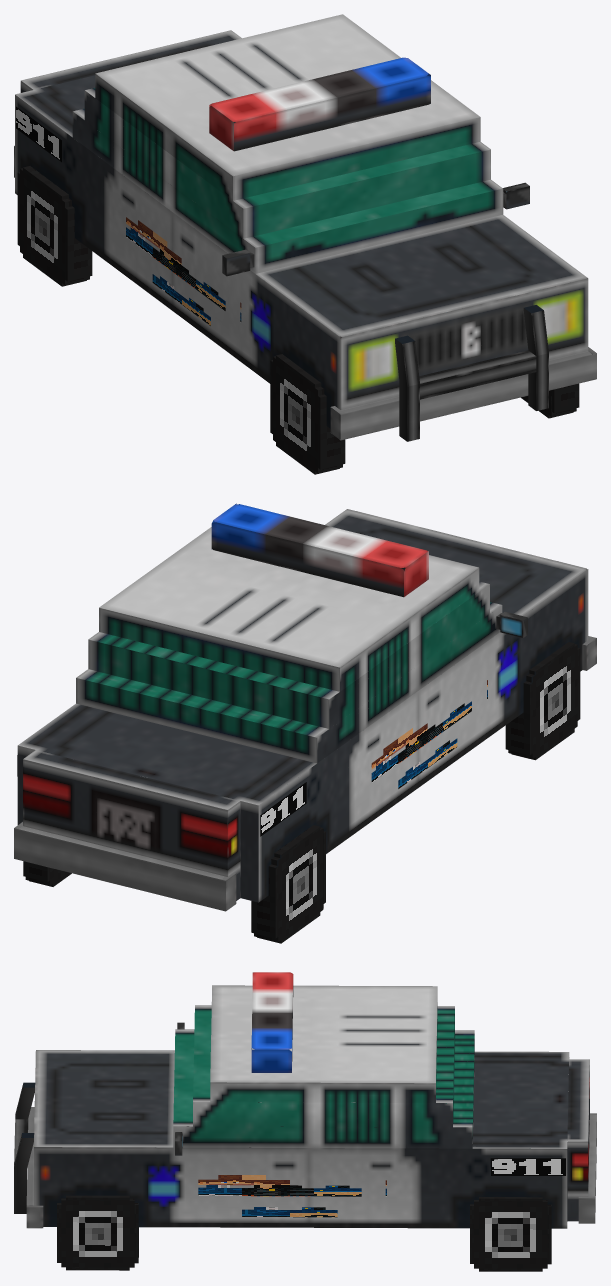
The model's file is BGN_POLICE CAR.fbx.
The picture shows the model from 3 angles, top to bottom: view 1: azimuth 30°, elevation 25°; view 2: azimuth 150°, elevation 25°; view 3: azimuth 270°, elevation 25°; orthographic projection. The views are drawn at different scales.
Parts seen in each view (by area): view 1: BGN_POLICE_CAR, R_R__7___1_, R_R__7___4_, POLICE_TAG__1_, R_R__7___2_; view 2: BGN_POLICE_CAR, R_R__7___1_, R_R__7___4_, POLICE_TAG__1_, R_R__7___3_; view 3: BGN_POLICE_CAR, R_R__7___2_, R_R__7___3_, POLICE_TAG.
Boxes of the visible parts, <box> form: BGN_POLICE_CAR: <box>14,14,596,441</box>; R_R__7___1_: <box>17,166,92,286</box>; R_R__7___4_: <box>270,354,345,474</box>; POLICE_TAG__1_: <box>126,217,241,325</box>; R_R__7___2_: <box>521,383,579,418</box>; BGN_POLICE_CAR: <box>14,503,596,911</box>; R_R__7___1_: <box>251,825,325,943</box>; R_R__7___4_: <box>505,642,580,760</box>; POLICE_TAG__1_: <box>371,680,487,788</box>; R_R__7___3_: <box>23,861,71,886</box>; BGN_POLICE_CAR: <box>14,972,596,1228</box>; R_R__7___2_: <box>57,1195,138,1270</box>; R_R__7___3_: <box>470,1197,551,1271</box>; POLICE_TAG: <box>198,1175,386,1217</box>.
Bounding box in the file's own units: 216 × 178 × 447.
